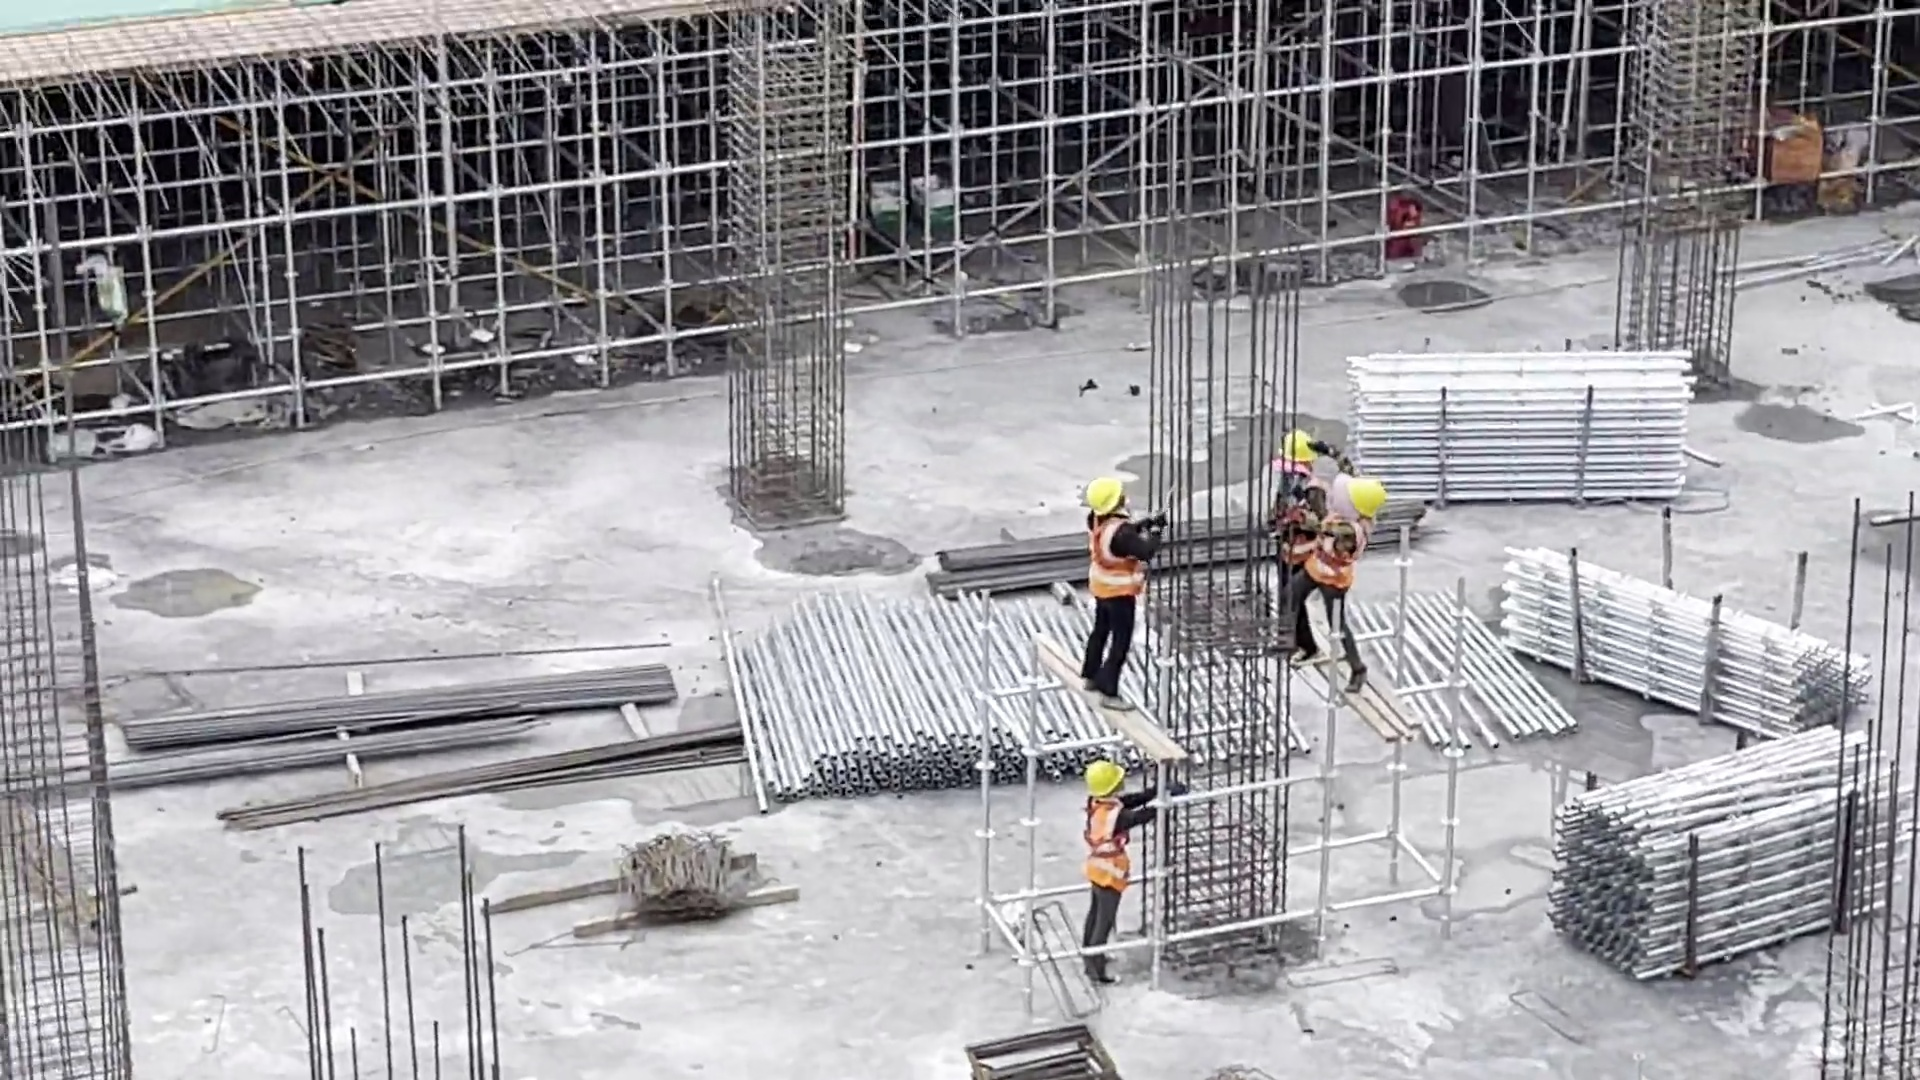helmet: (1344, 476, 1391, 526), (1088, 761, 1125, 798), (1086, 479, 1122, 517), (1287, 428, 1324, 462)
person: (1288, 474, 1389, 697), (1077, 475, 1147, 712), (1075, 753, 1134, 993), (1256, 426, 1321, 594)
rebar: (218, 705, 754, 839), (126, 630, 696, 746), (66, 691, 541, 800), (915, 531, 1315, 605)
scaffold: (1547, 727, 1916, 978), (722, 591, 1110, 795), (1498, 542, 1862, 739), (1337, 348, 1696, 513)
vest: (1303, 514, 1366, 597), (1078, 804, 1130, 891), (1093, 522, 1147, 595), (1280, 486, 1328, 557)
